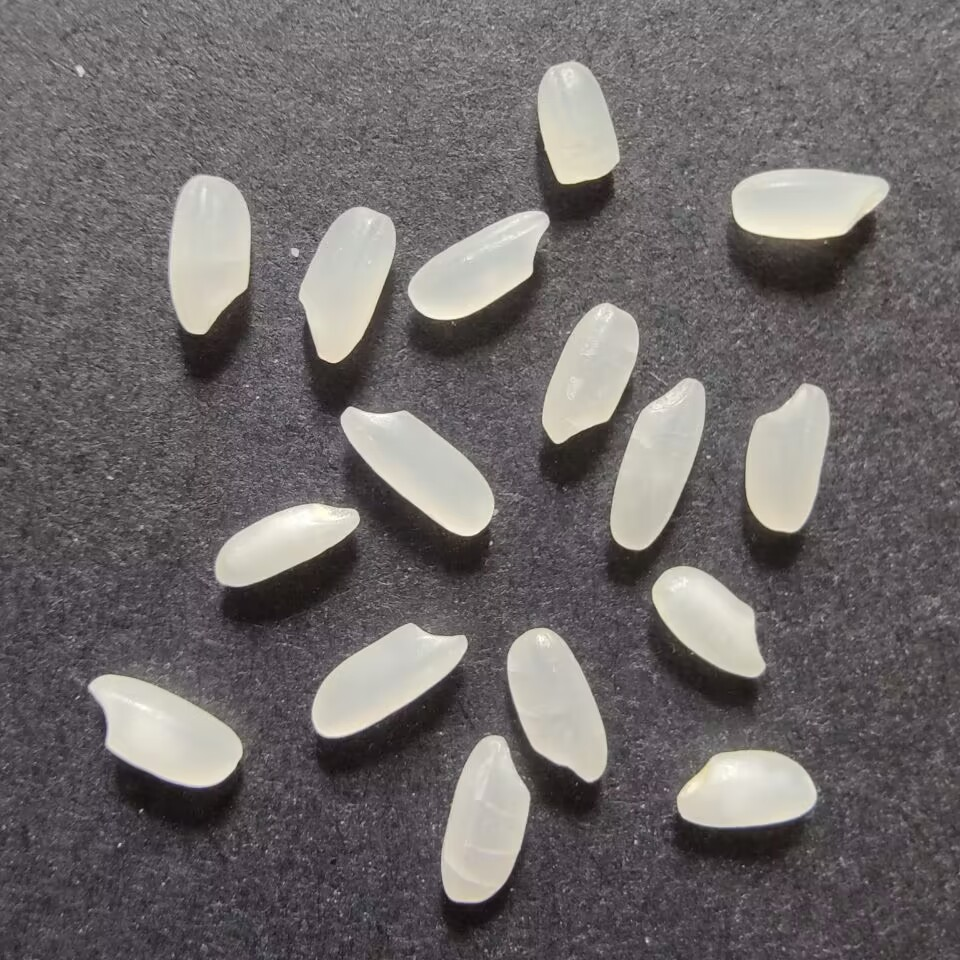broken: (530, 53, 626, 188)
rice: (334, 403, 499, 543), (307, 615, 473, 742), (77, 670, 247, 794), (435, 730, 536, 909), (405, 207, 554, 327), (606, 375, 707, 550), (501, 628, 613, 784), (161, 169, 261, 340), (295, 201, 398, 367), (536, 299, 646, 449), (645, 560, 771, 684), (740, 378, 836, 536), (209, 498, 366, 594), (671, 743, 823, 835), (729, 166, 897, 242)
